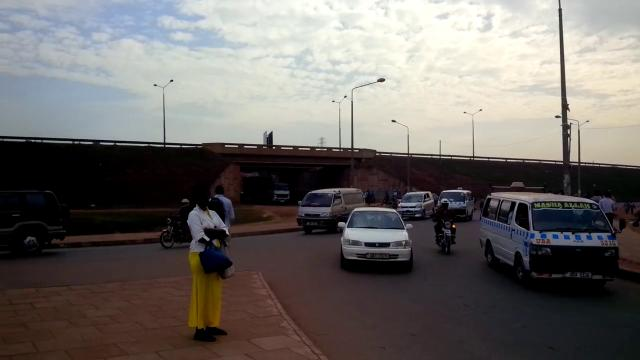car: (0, 182, 72, 258), (396, 188, 436, 219)
motorcycle: (156, 202, 190, 251), (431, 201, 457, 257)
truck: (340, 204, 418, 272)
van: (476, 181, 625, 286), (294, 187, 372, 232), (438, 186, 476, 220)
